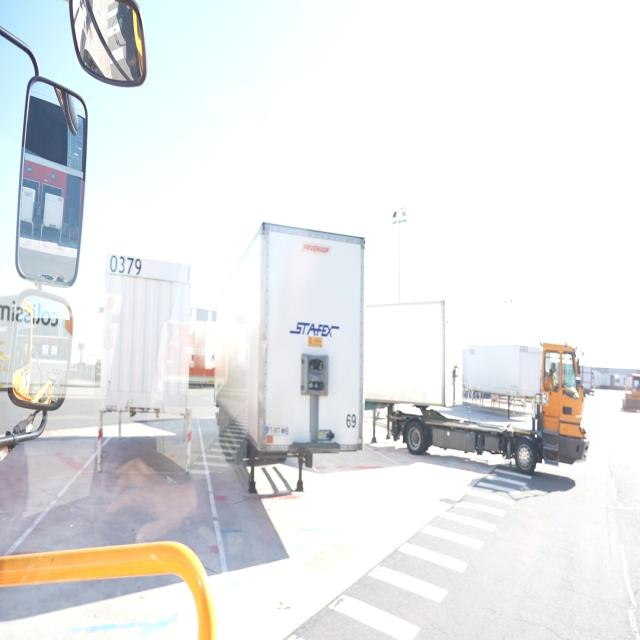Code: (106, 250, 144, 278)
